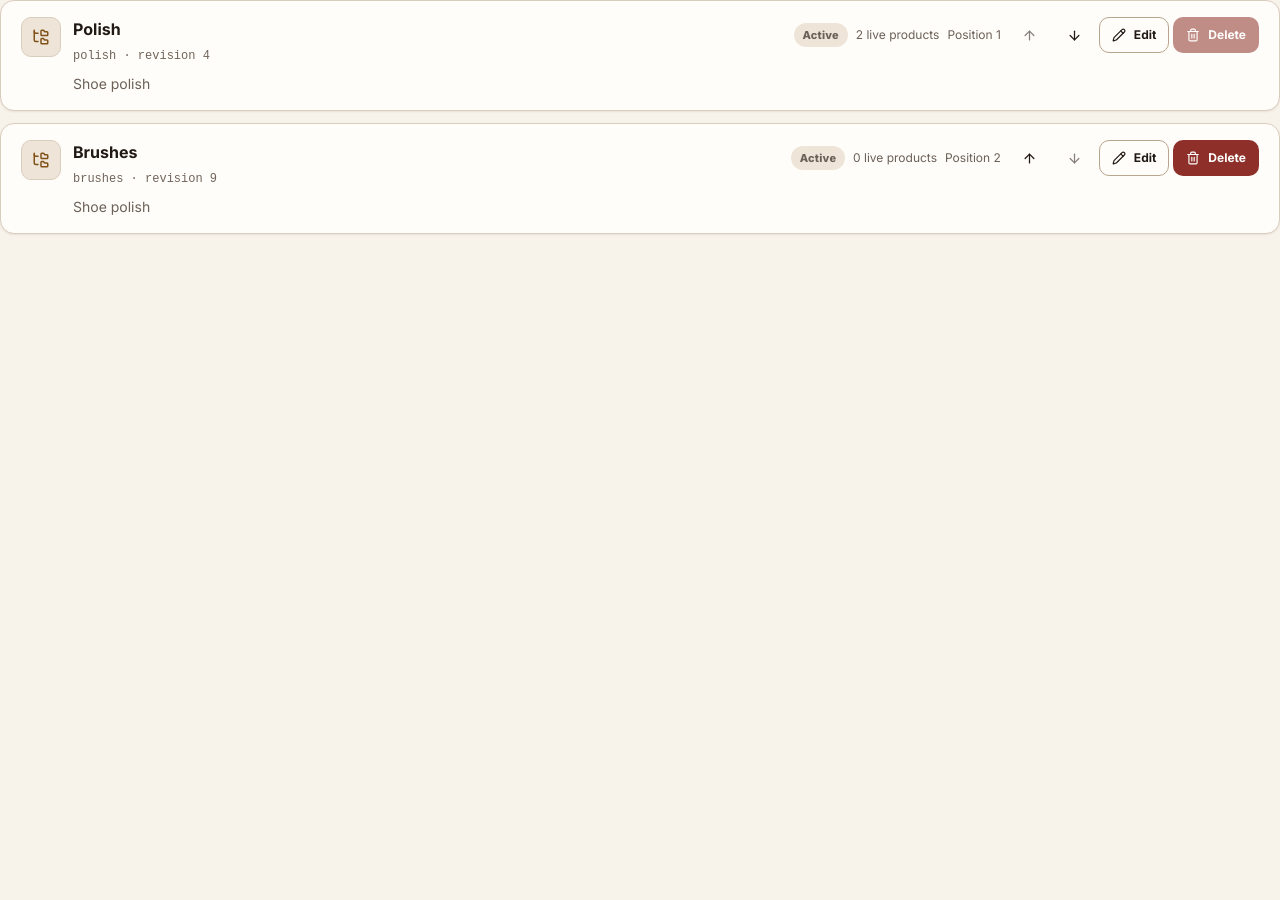
Scenario: CategoryList › lists the products that block a delete
The image size is (1280, 900).
Click the button with aria-label "Delete Brushes" at point(1216, 158), box x1=1173 y1=140 x2=1259 y2=176
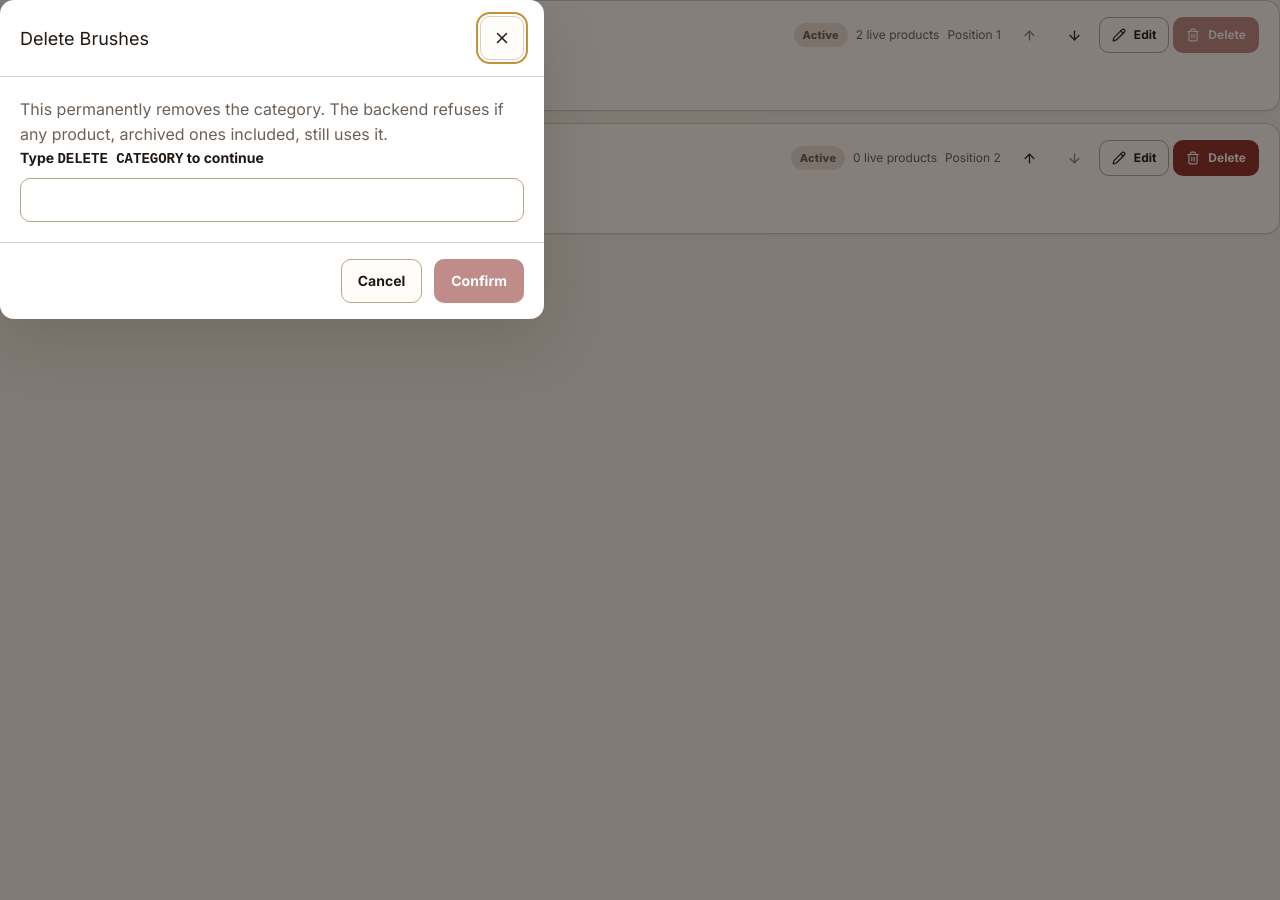
Type "DELETE CATEGORY" into the field labelled "Type DELETE CATEGORY to continue" at point(272, 200), box x1=20 y1=178 x2=524 y2=222
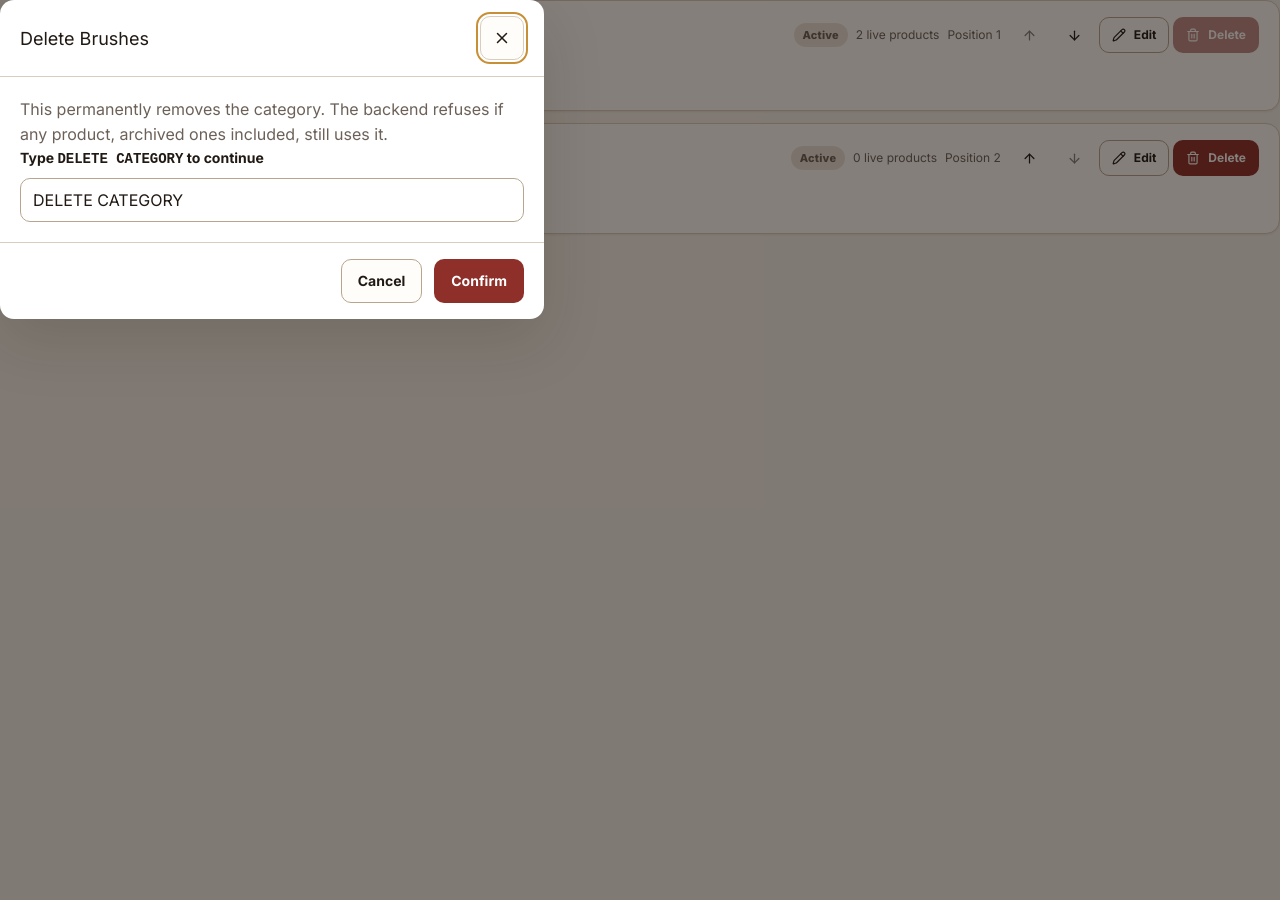
Click the button "Confirm" at point(479, 281), box x1=434 y1=259 x2=524 y2=303
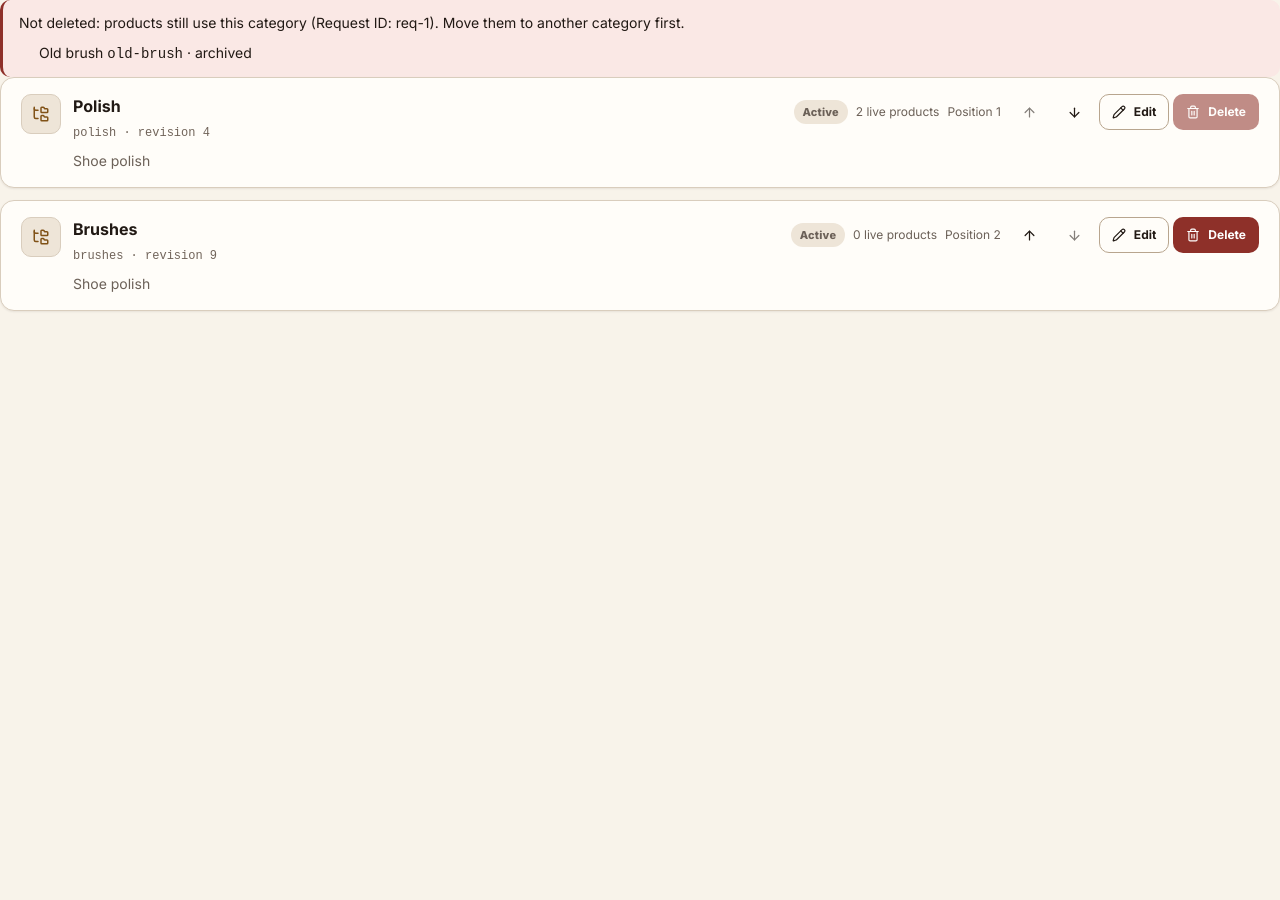
Expected: the list named "Products that block deleting this category" shows "Old brush", x1=39 y1=44 x2=103 y2=61
Expected: the text "Not deleted: products still use this category" is shown, x1=19 y1=14 x2=685 y2=31
